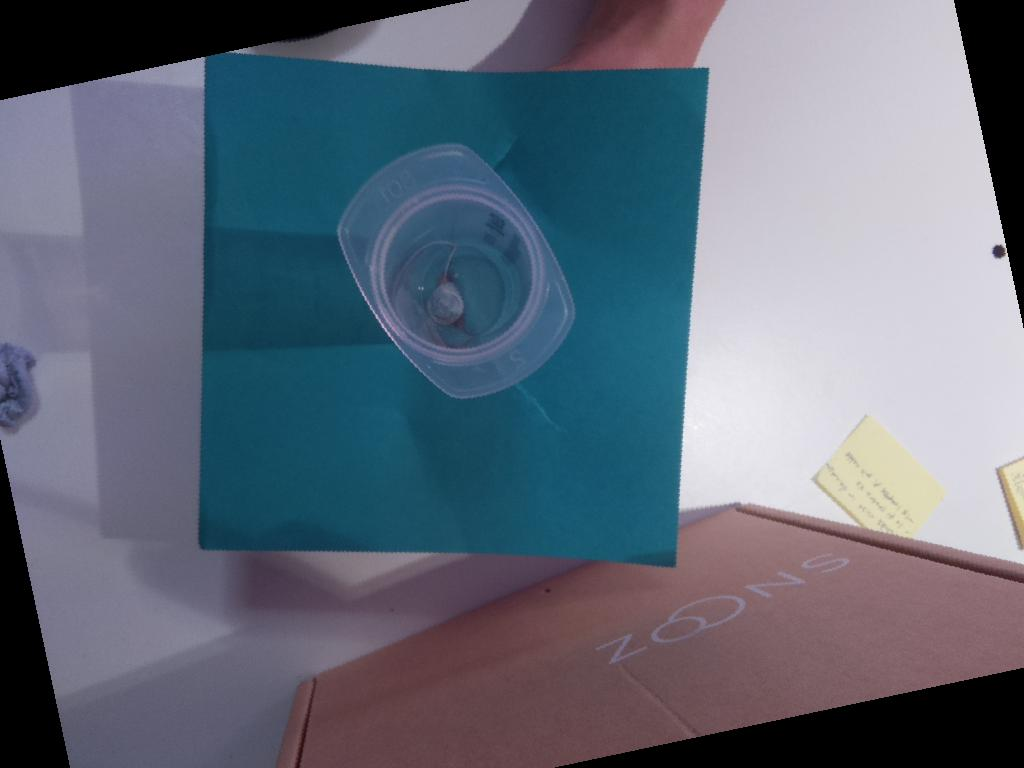clean: (332, 141, 577, 400)
